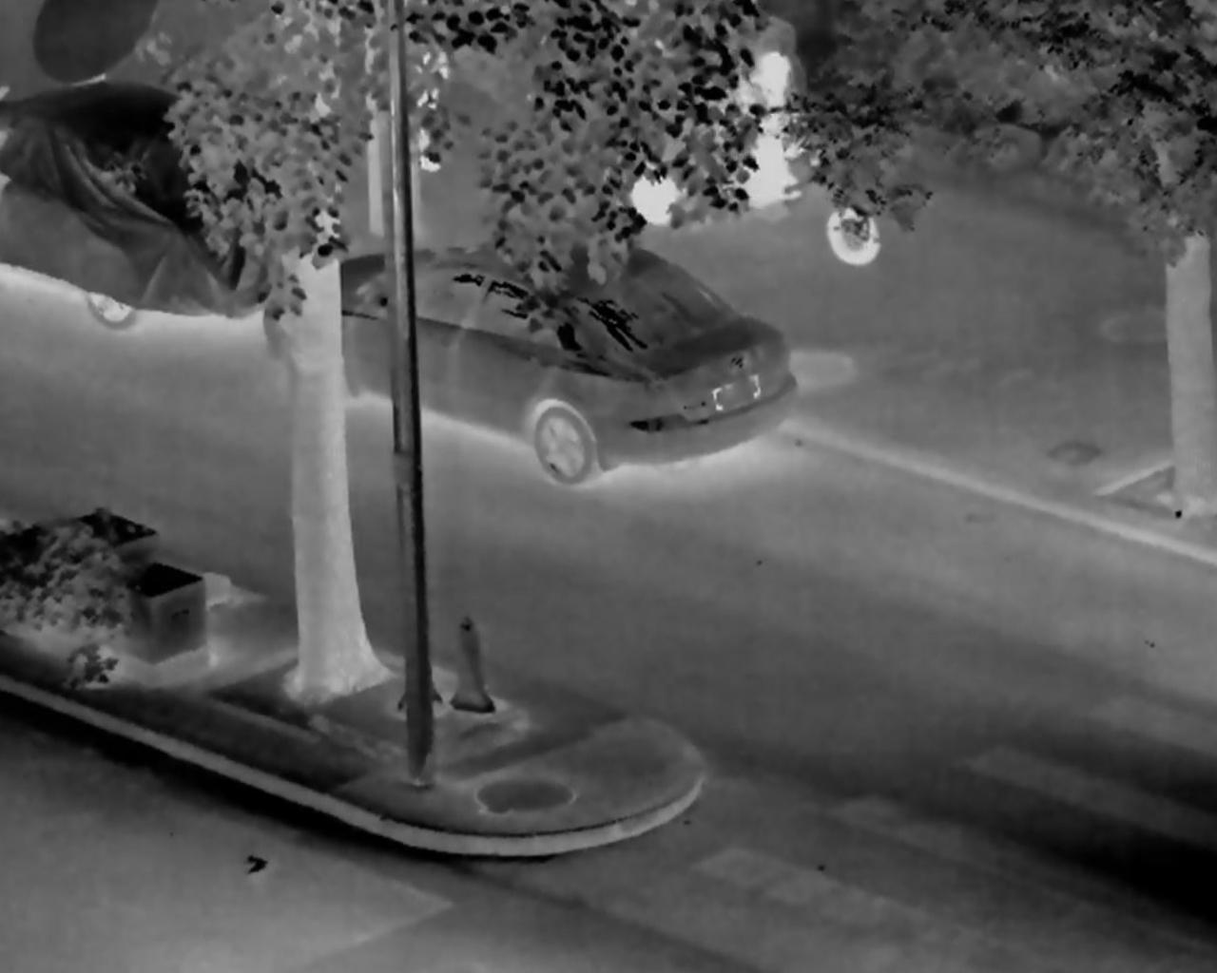person: (725, 50, 814, 210)
